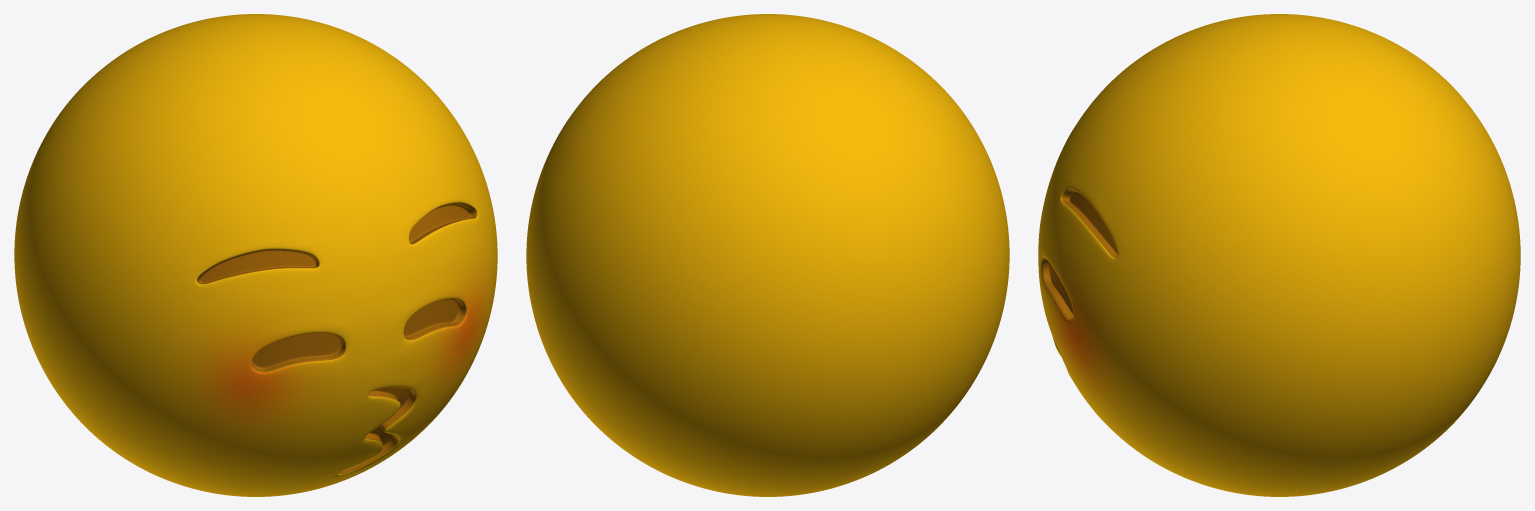
The model's file is closeKiss_emoji.glb.
The picture shows the model from 3 angles, left to right: view 1: azimuth 30°, elevation 25°; view 2: azimuth 150°, elevation 25°; view 3: azimuth 270°, elevation 25°; orthographic projection.
Parts seen in each view (by area): view 1: Apple Kissing Face with Closed Eyes; view 2: Apple Kissing Face with Closed Eyes; view 3: Apple Kissing Face with Closed Eyes.
Boxes of the visible parts, box(x1,y1,x2,y2) form: Apple Kissing Face with Closed Eyes: box(14, 14, 497, 496); Apple Kissing Face with Closed Eyes: box(526, 14, 1009, 496); Apple Kissing Face with Closed Eyes: box(1038, 14, 1520, 496).
Size of the model in its own units: 0.0253 by 0.0253 by 0.0253.
2 materials, 1 textured.
